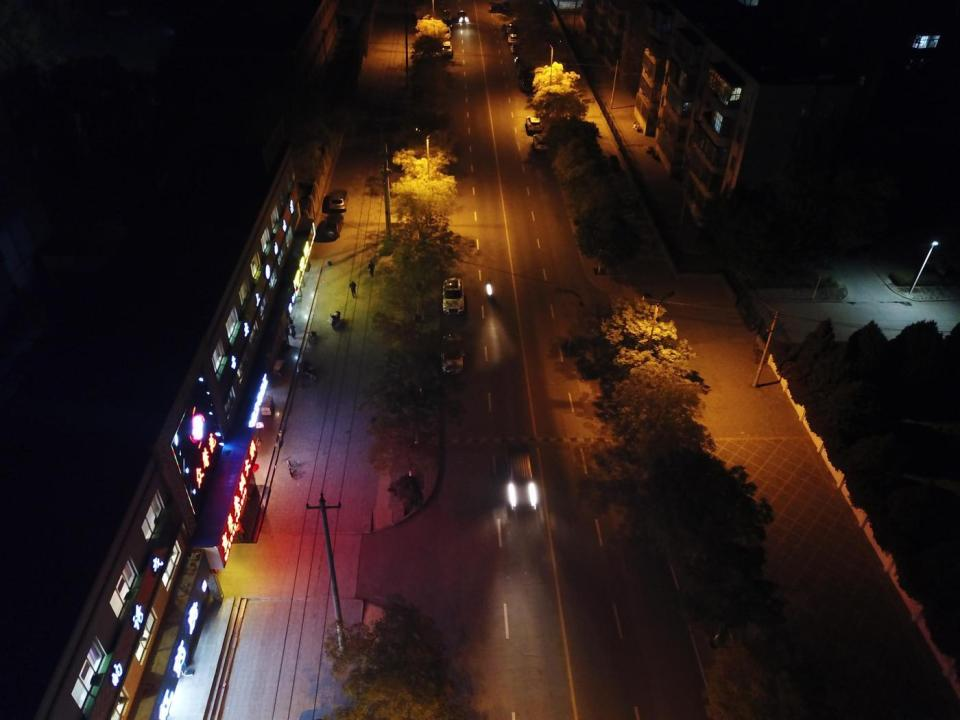car: (505, 447, 536, 511), (441, 332, 466, 375), (442, 276, 465, 316), (321, 212, 344, 239), (518, 69, 538, 94), (328, 189, 349, 212), (526, 116, 543, 133), (533, 134, 549, 150), (491, 2, 510, 14), (442, 41, 454, 58), (458, 10, 469, 23), (441, 24, 451, 38), (440, 9, 451, 21), (510, 44, 522, 55), (508, 33, 519, 42), (506, 23, 515, 33)
